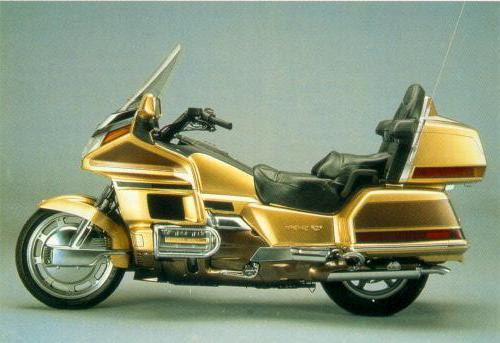motorcycle: (5, 40, 500, 324)
